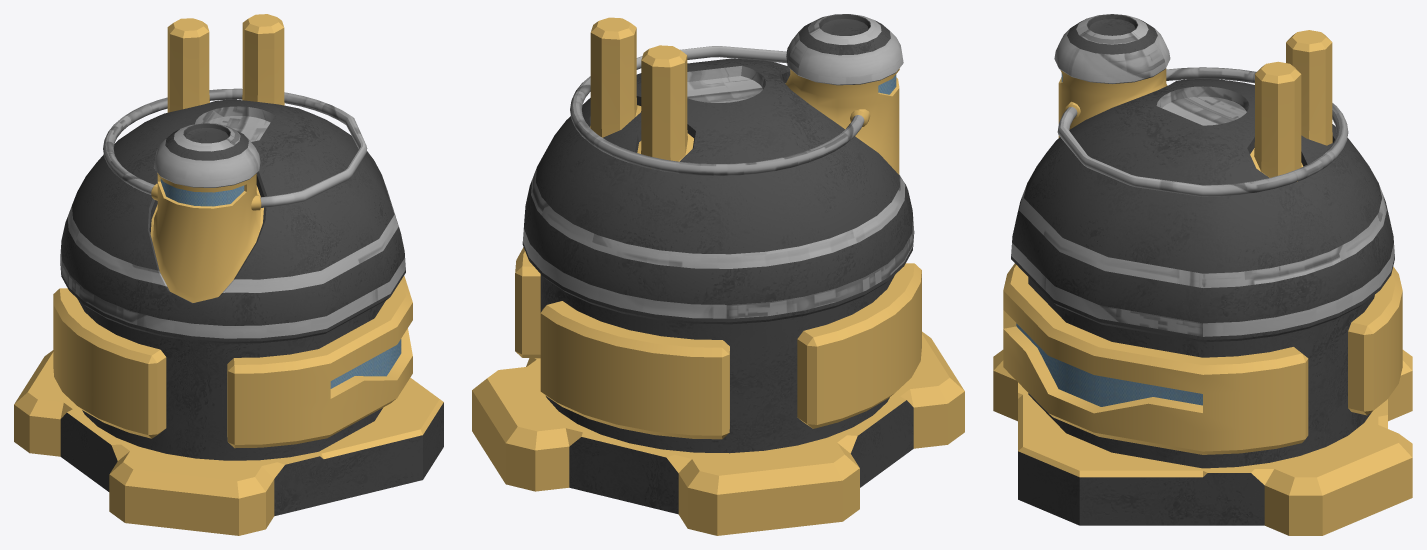
File: NB_observatory_Building_2.fbx
The picture shows the model from 3 angles, left to right: view 1: azimuth 30°, elevation 25°; view 2: azimuth 150°, elevation 25°; view 3: azimuth 270°, elevation 25°; orthographic projection. The views are drawn at different scales.
Parts seen in each view (by area): view 1: NB_observatory_Building_2; view 2: NB_observatory_Building_2; view 3: NB_observatory_Building_2.
Part boxes in pixels (<box>): NB_observatory_Building_2: <box>14,14,443,535</box>; NB_observatory_Building_2: <box>472,14,964,535</box>; NB_observatory_Building_2: <box>993,14,1412,535</box>.
Size of the model in its own units: 360 by 389 by 360.
